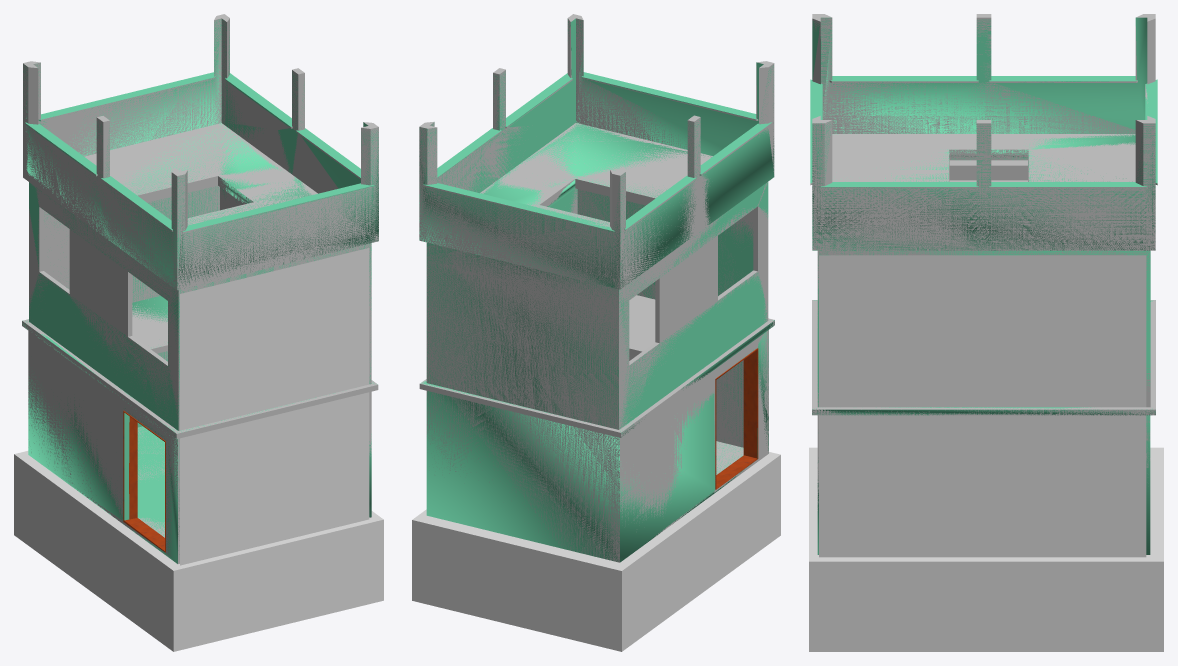
The model's file is CASA 20.fbx.
3 views of the same model, side by side, from view 1: azimuth 30°, elevation 25°; view 2: azimuth 150°, elevation 25°; view 3: azimuth 270°, elevation 25° (orthographic). The views are drawn at different scales.
Parts seen in each view (by area): view 1: CASA20_LOD0, UTM_CASA20, OCC_Oclusion1, Cube_LOD0; view 2: CASA20_LOD0, UTM_CASA20, Cube_LOD0; view 3: OCC_Oclusion2, CASA20_LOD0, UTM_CASA20, Cube_LOD0.
Boxes of the visible parts, bbox=[...] form: CASA20_LOD0: bbox=[22, 14, 378, 563]; UTM_CASA20: bbox=[22, 19, 378, 563]; OCC_Oclusion1: bbox=[180, 248, 369, 565]; Cube_LOD0: bbox=[14, 451, 383, 651]; CASA20_LOD0: bbox=[419, 14, 774, 562]; UTM_CASA20: bbox=[419, 18, 774, 562]; Cube_LOD0: bbox=[412, 452, 780, 651]; OCC_Oclusion2: bbox=[819, 255, 1146, 557]; CASA20_LOD0: bbox=[810, 14, 1157, 510]; UTM_CASA20: bbox=[810, 17, 1157, 554]; Cube_LOD0: bbox=[809, 447, 1163, 651].
Size of what is drawn, in the model's own units: 543 by 1168 by 713.
